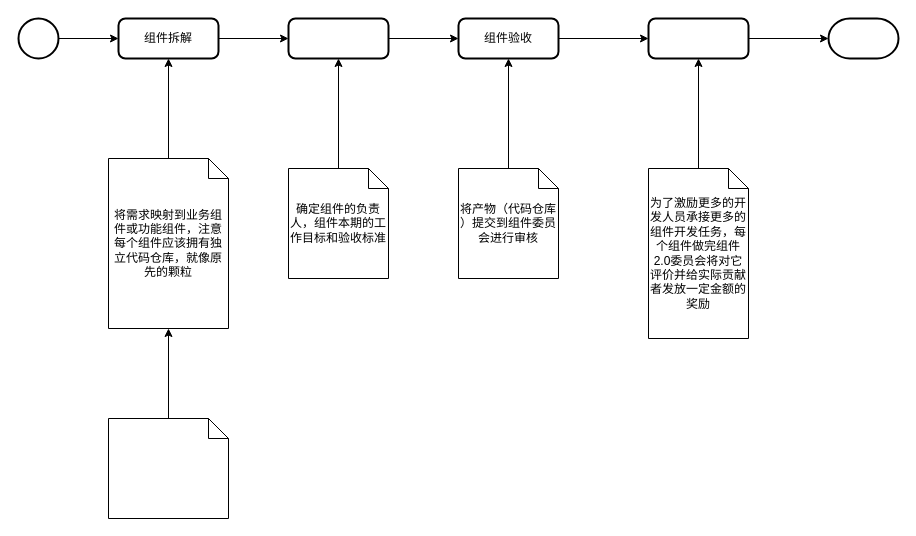
This 916x536 diagram has some shape labels left out. Here are the shapes that lost their labels. From the top down, the centre of each, then its label:
the point at 338,38: 组件立项
the point at 698,38: 组件奖励
the point at 168,468: 尽可能抽象出复用性高的功能组件
